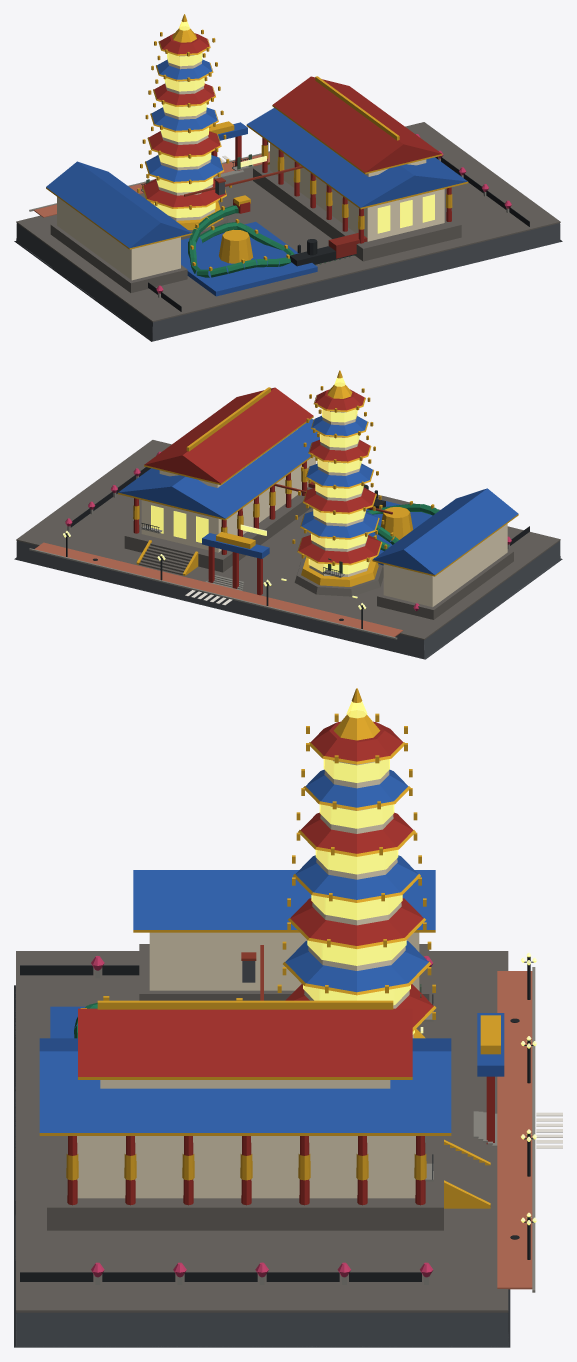
Rendered from lm_16_chua_linh_phuoc.glb.
The picture shows the model from 3 angles, top to bottom: view 1: azimuth 30°, elevation 25°; view 2: azimuth 150°, elevation 25°; view 3: azimuth 270°, elevation 25°; orthographic projection. The views are drawn at different scales.
Parts seen in each view (by area): view 1: Foundation_Plinth_Trim, LinhPhuoc_Ornate_Walls, Foundation_Skirt, LinhPhuoc_MainHall_UpperRoof, LinhPhuoc_Cobalt_Ceramic_Roofs, LinhPhuoc_MainHall_LowerRoof, LinhPhuoc_Stone_Plinths, LinhPhuoc_WestGallery_Roof, LinhPhuoc_Amber_Gold_Sculptures, LinhPhuoc_Crimson_Pagoda_Tiers, LinhPhuoc_Lantern_And_Shrine_Glow, HoaLongVien_49m_Bottle_Dragon (+5 smaller); view 2: Foundation_Plinth_Trim, LinhPhuoc_Ornate_Walls, Foundation_Skirt, LinhPhuoc_MainHall_UpperRoof, LinhPhuoc_MainHall_LowerRoof, LinhPhuoc_WestGallery_Roof, LinhPhuoc_Amber_Gold_Sculptures, LinhPhuoc_Stone_Plinths, LinhPhuoc_Crimson_Pagoda_Tiers, LinhPhuoc_Lantern_And_Shrine_Glow, LinhPhuoc_Cobalt_Ceramic_Roofs, Phase2_Interlocking_Brick_Sidewalk (+6 smaller); view 3: Foundation_Plinth_Trim, LinhPhuoc_Ornate_Walls, LinhPhuoc_MainHall_LowerRoof, LinhPhuoc_MainHall_UpperRoof, Foundation_Skirt, LinhPhuoc_Stone_Plinths, LinhPhuoc_Crimson_Pagoda_Tiers, LinhPhuoc_Amber_Gold_Sculptures, LinhPhuoc_WestGallery_Roof, Phase2_Interlocking_Brick_Sidewalk, LinhPhuoc_Cobalt_Ceramic_Roofs, LinhPhuoc_Lantern_And_Shrine_Glow (+7 smaller).
Boxes of the visible parts, left/top/right/bottom form: Foundation_Plinth_Trim: left=16, top=122, right=560, bottom=322; LinhPhuoc_Ornate_Walls: left=57, top=53, right=444, bottom=280; Foundation_Skirt: left=14, top=223, right=562, bottom=341; LinhPhuoc_MainHall_UpperRoof: left=273, top=76, right=441, bottom=172; LinhPhuoc_Cobalt_Ceramic_Roofs: left=146, top=59, right=317, bottom=296; LinhPhuoc_MainHall_LowerRoof: left=247, top=108, right=467, bottom=207; LinhPhuoc_Stone_Plinths: left=50, top=164, right=461, bottom=292; LinhPhuoc_WestGallery_Roof: left=46, top=161, right=191, bottom=248; LinhPhuoc_Amber_Gold_Sculptures: left=137, top=14, right=452, bottom=271; LinhPhuoc_Crimson_Pagoda_Tiers: left=143, top=33, right=451, bottom=243; LinhPhuoc_Lantern_And_Shrine_Glow: left=154, top=21, right=434, bottom=233; HoaLongVien_49m_Bottle_Dragon: left=188, top=205, right=294, bottom=277; Foundation_Plinth_Trim: left=16, top=440, right=560, bottom=639; LinhPhuoc_Ornate_Walls: left=141, top=410, right=507, bottom=606; Foundation_Skirt: left=14, top=541, right=562, bottom=659; LinhPhuoc_MainHall_UpperRoof: left=144, top=387, right=313, bottom=483; LinhPhuoc_MainHall_LowerRoof: left=118, top=419, right=319, bottom=518; LinhPhuoc_WestGallery_Roof: left=372, top=488, right=518, bottom=574; LinhPhuoc_Amber_Gold_Sculptures: left=133, top=370, right=434, bottom=586; LinhPhuoc_Stone_Plinths: left=124, top=487, right=513, bottom=619; LinhPhuoc_Crimson_Pagoda_Tiers: left=133, top=389, right=380, bottom=595; LinhPhuoc_Lantern_And_Shrine_Glow: left=151, top=377, right=370, bottom=574; LinhPhuoc_Cobalt_Ceramic_Roofs: left=202, top=415, right=432, bottom=565; Phase2_Interlocking_Brick_Sidewalk: left=34, top=542, right=403, bottom=636; Foundation_Plinth_Trim: left=16, top=951, right=508, bottom=1312; LinhPhuoc_Ornate_Walls: left=77, top=760, right=419, bottom=1198; LinhPhuoc_MainHall_LowerRoof: left=39, top=1038, right=451, bottom=1132; LinhPhuoc_MainHall_UpperRoof: left=78, top=1008, right=412, bottom=1076; Foundation_Skirt: left=14, top=985, right=510, bottom=1347; LinhPhuoc_Stone_Plinths: left=47, top=944, right=443, bottom=1230; LinhPhuoc_Crimson_Pagoda_Tiers: left=67, top=721, right=494, bottom=1205; LinhPhuoc_Amber_Gold_Sculptures: left=66, top=688, right=500, bottom=1180; LinhPhuoc_WestGallery_Roof: left=133, top=870, right=435, bottom=929; Phase2_Interlocking_Brick_Sidewalk: left=497, top=971, right=532, bottom=1289; LinhPhuoc_Cobalt_Ceramic_Roofs: left=50, top=769, right=504, bottom=1076; LinhPhuoc_Lantern_And_Shrine_Glow: left=303, top=701, right=414, bottom=1034.
Size of the model in its own units: 76.87 by 40.5 by 49.22.
